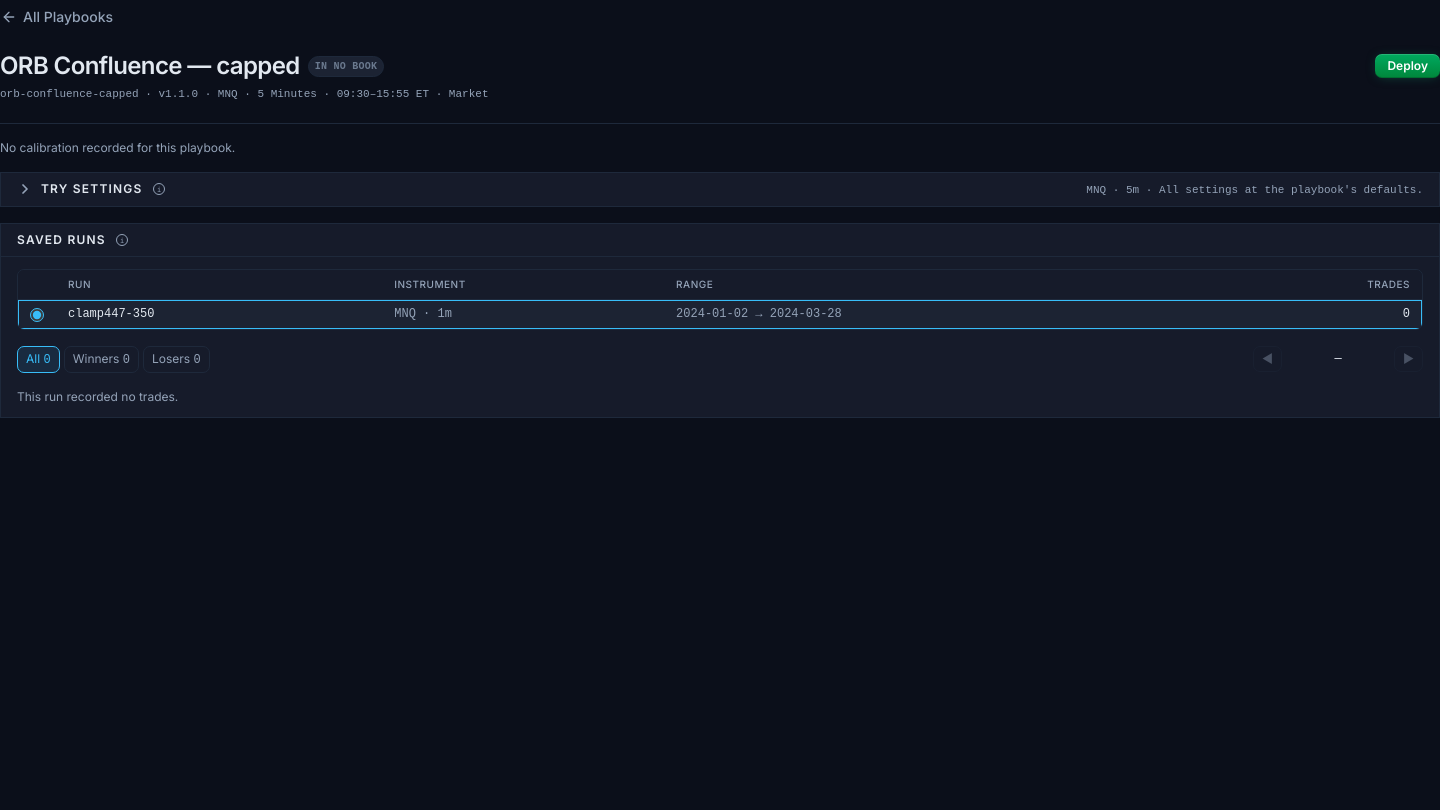
it: Try settings on the Playbook page › starts closed on every load, and opens from its header
The width and height of the screenshot is (1440, 810).
Click the button "Try settings".
click(80, 189)  # box top-left (17, 181), bottom-right (142, 197)
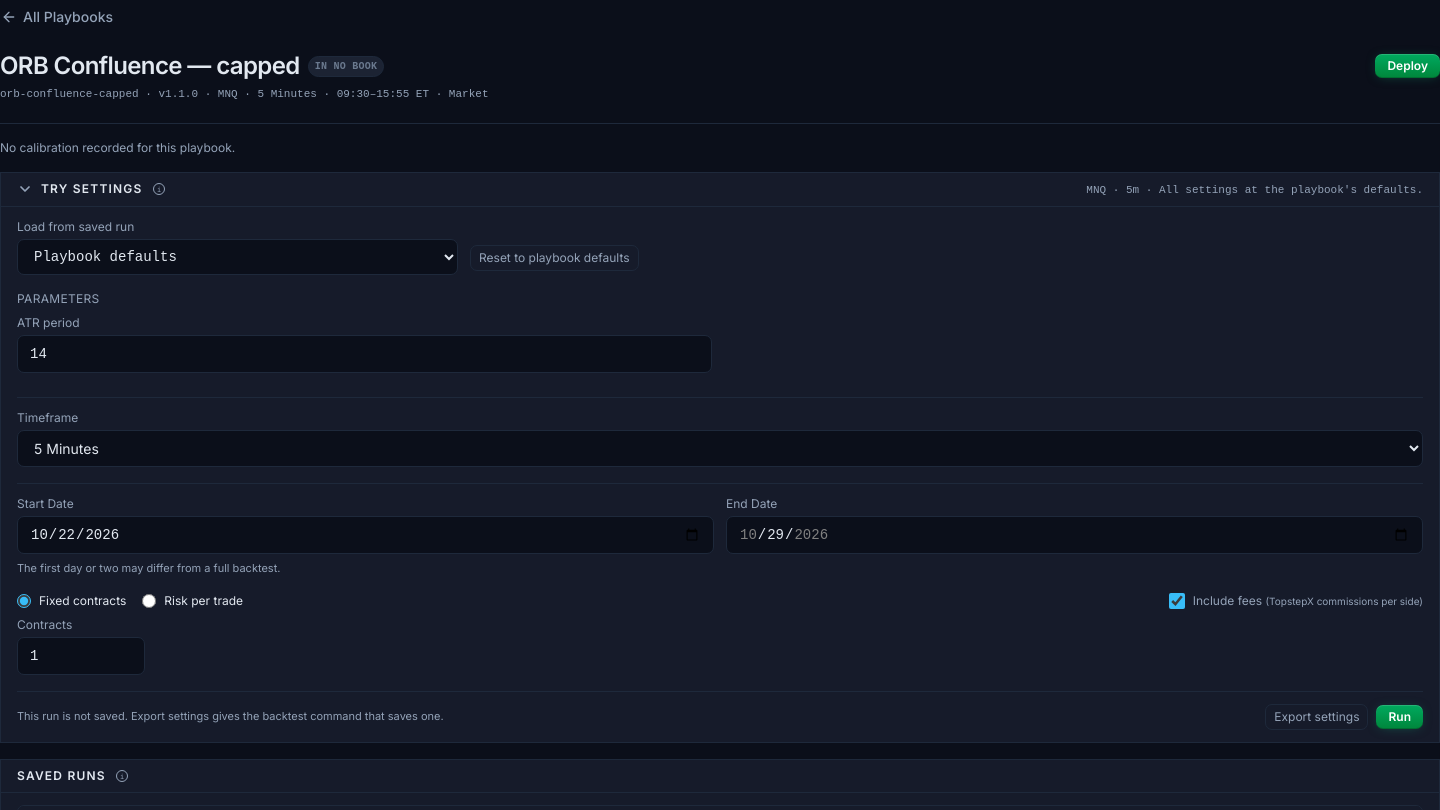
Expected: the button "Try settings" is expanded, top-left (17, 181), bottom-right (142, 197)
